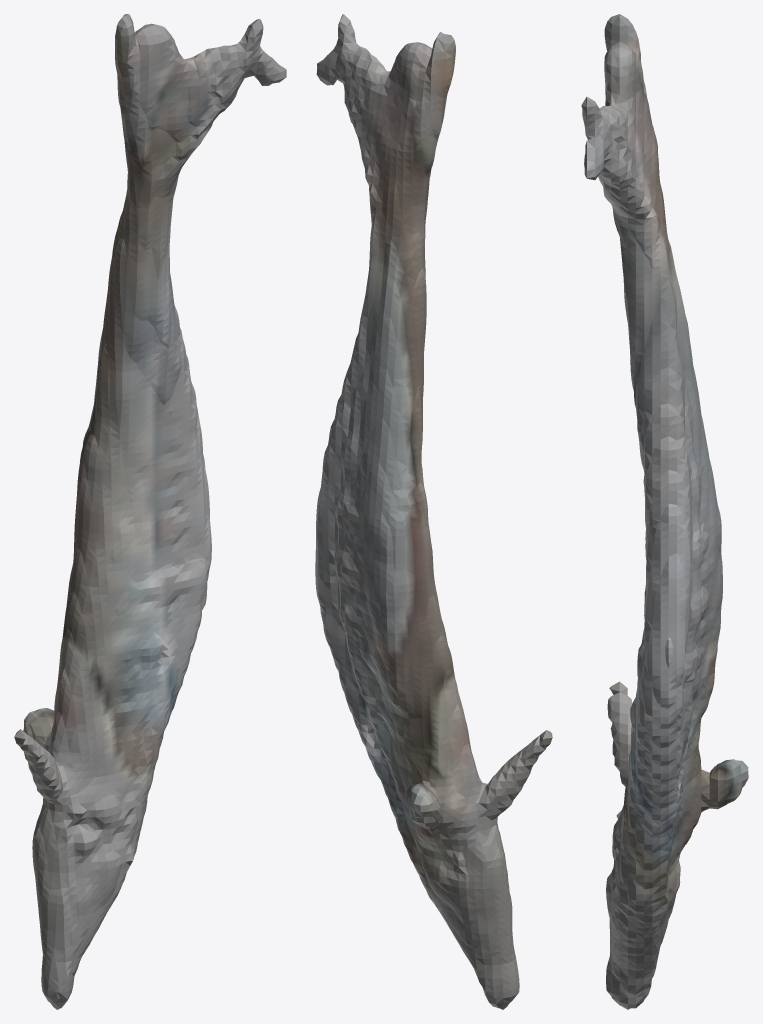
Rendered from acantopsis-dialuzona.glb.
3 renders of one model, left to right at view 1: azimuth 30°, elevation 25°; view 2: azimuth 150°, elevation 25°; view 3: azimuth 270°, elevation 25°, orthographic. The views are drawn at different scales.
Visible parts, largest first — view 1: world; view 2: world; view 3: world.
Boxes of the visible parts, x1=… form: world: x1=14, y1=14, x2=286, y2=1009; world: x1=315, y1=14, x2=552, y2=1009; world: x1=581, y1=14, x2=748, y2=1009.
Bounding box in the file's own units: 0.2591 × 0.9471 × 0.1394.
